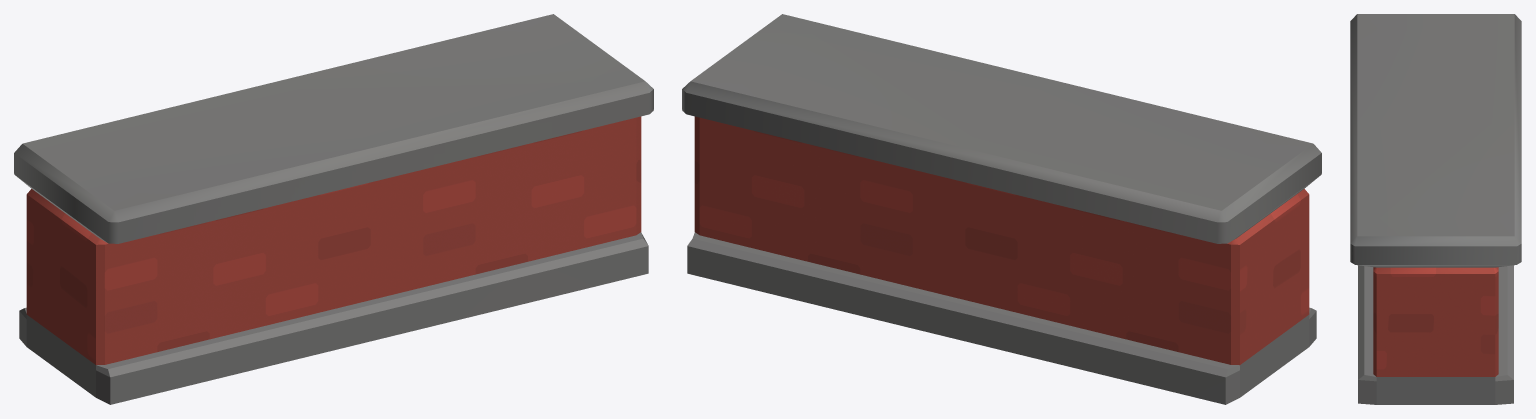
File: BrickWall_1_1.fbx
3 views of the same model, side by side, from view 1: azimuth 30°, elevation 25°; view 2: azimuth 150°, elevation 25°; view 3: azimuth 270°, elevation 25° (orthographic). The views are drawn at different scales.
Parts seen in each view (by area): view 1: BrickWall_1_1; view 2: BrickWall_1_1; view 3: BrickWall_1_1.
Part boxes in pixels (x1=…): BrickWall_1_1: x1=14, y1=14, x2=653, y2=404; BrickWall_1_1: x1=682, y1=14, x2=1321, y2=404; BrickWall_1_1: x1=1350, y1=14, x2=1521, y2=404.
Size of the model in its own units: 200 by 67.83 by 63.57.
